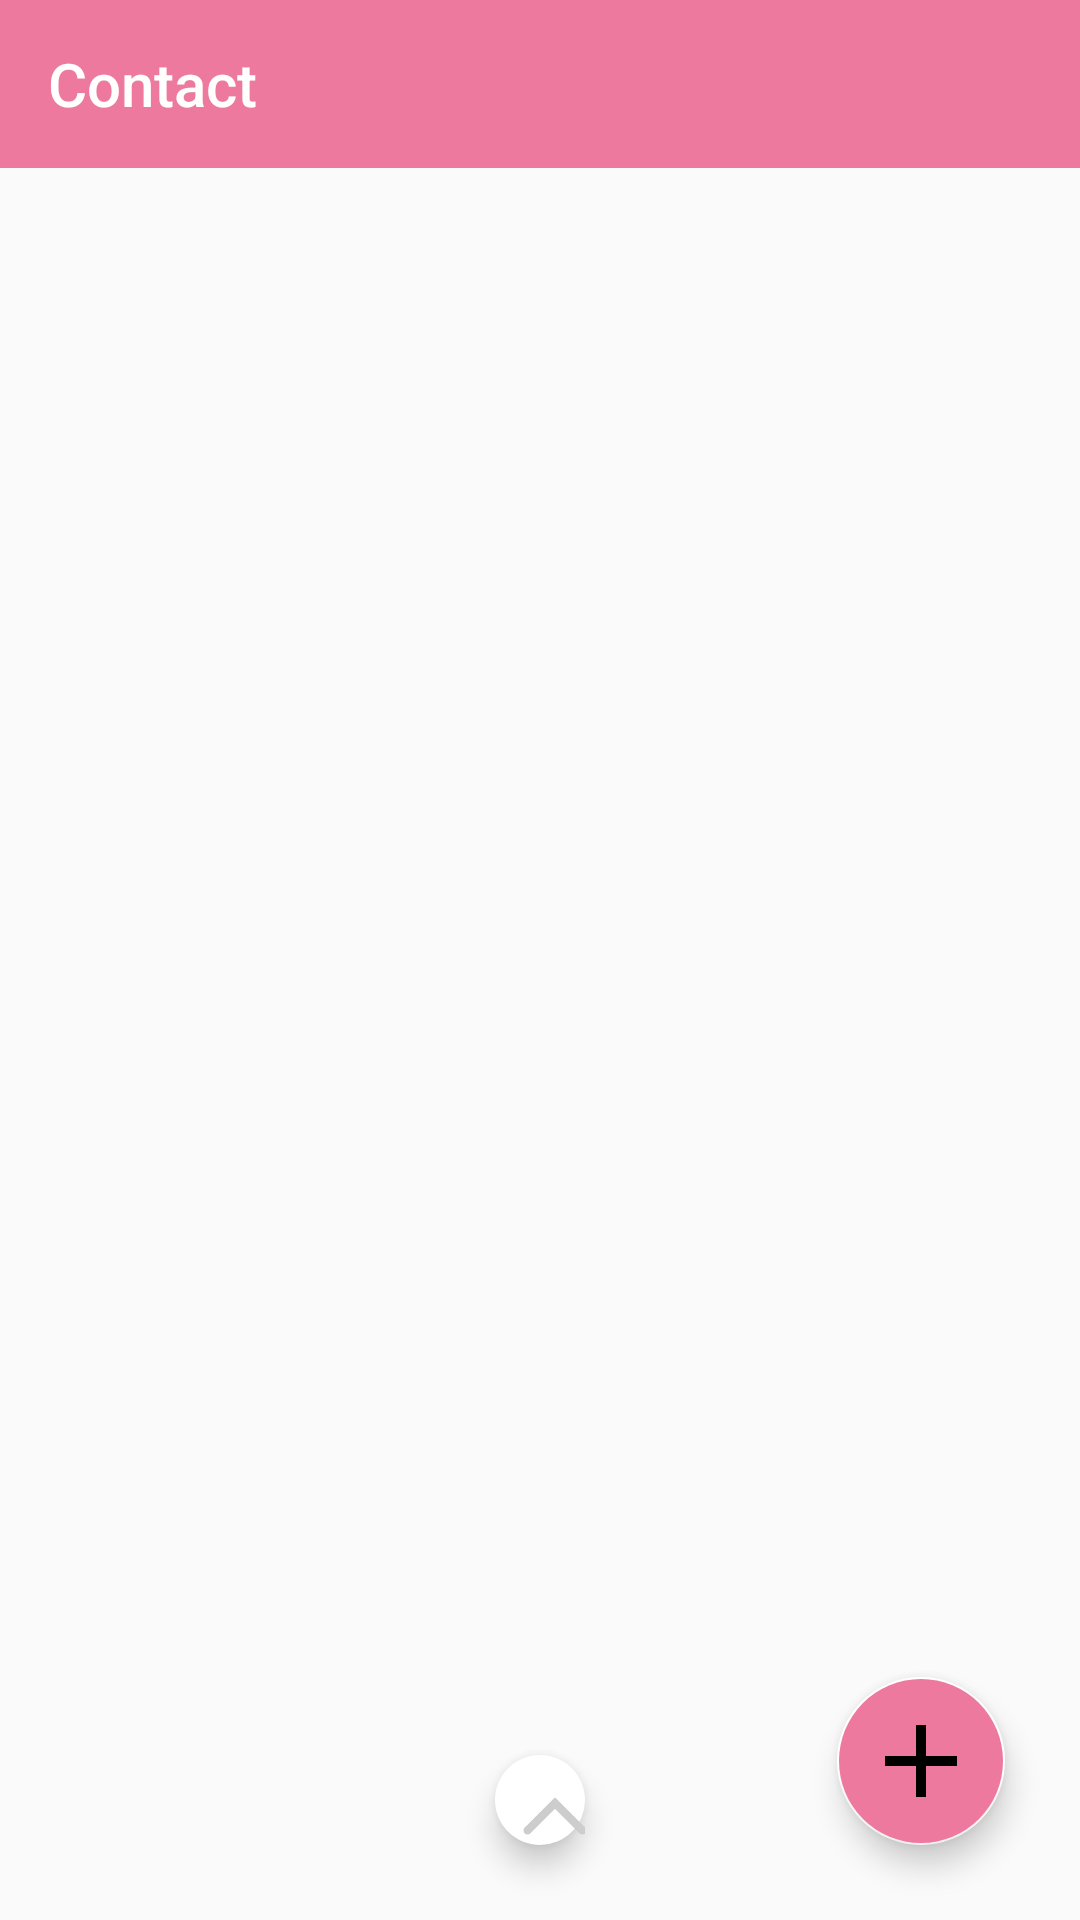

Named icons in this screenshot (1080 x 1920) and their centers, point (x, y):
add: point (921, 1761)
